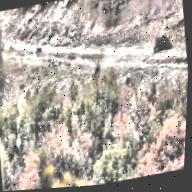boar: (147, 24, 171, 54)
